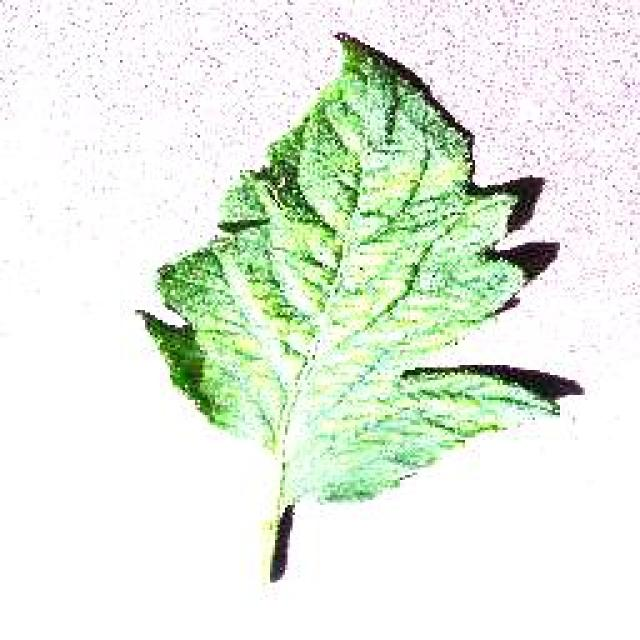Tomato___Tomato_mosaic_virus: (138, 40, 558, 510)
